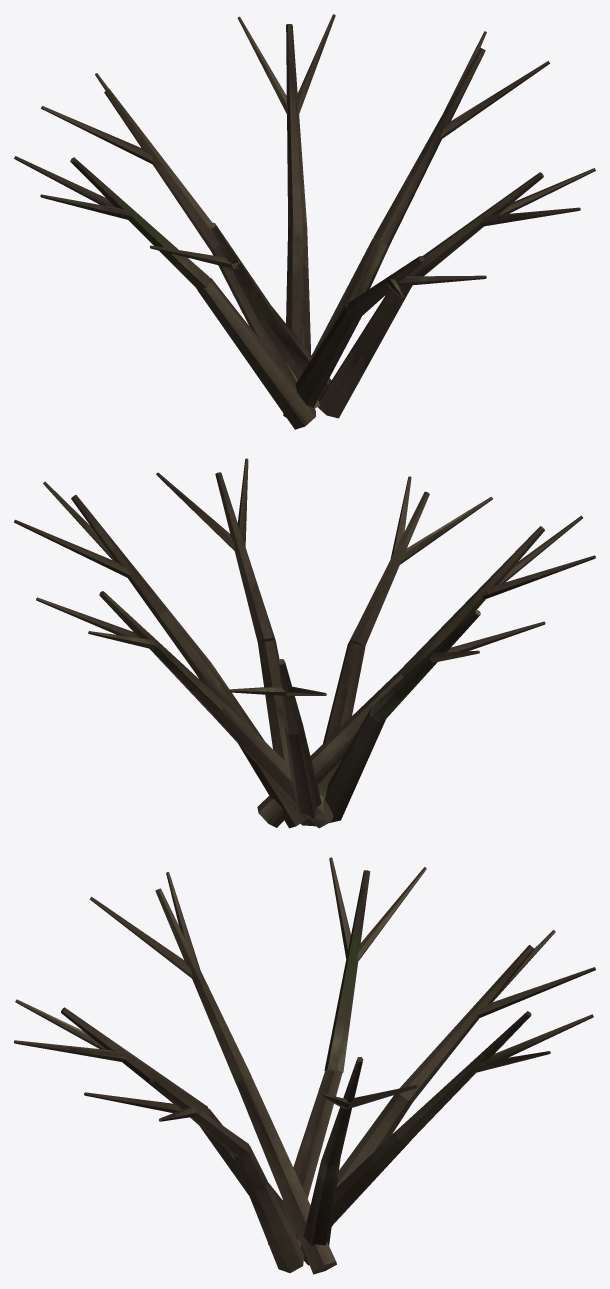
Rendered from DryScrub.fbx.
The picture shows the model from 3 angles, top to bottom: view 1: azimuth 30°, elevation 25°; view 2: azimuth 150°, elevation 25°; view 3: azimuth 270°, elevation 25°; orthographic projection. The views are drawn at different scales.
Parts seen in each view (by area): view 1: DryScrub; view 2: DryScrub; view 3: DryScrub.
Part boxes in pixels (box(x1,y1,x2,y2)): DryScrub: box(14, 14, 595, 429); DryScrub: box(14, 458, 595, 828); DryScrub: box(14, 857, 595, 1274).
Bounding box in the file's own units: 1.4 × 0.7951 × 1.37.
